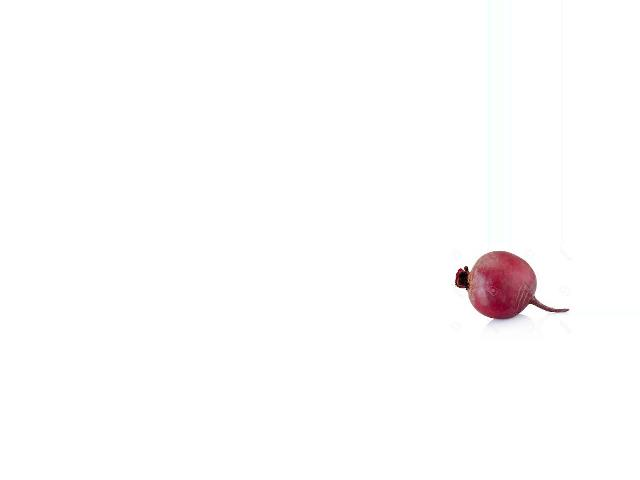beet: (455, 251, 568, 319)
